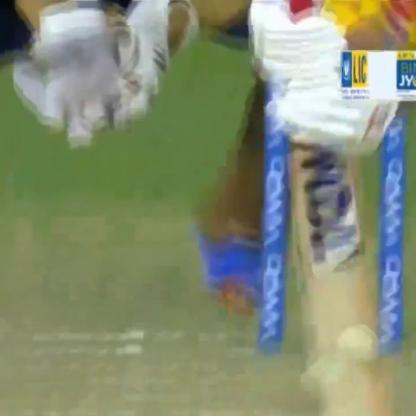ball: (330, 318, 382, 366)
bat: (233, 8, 404, 416)
